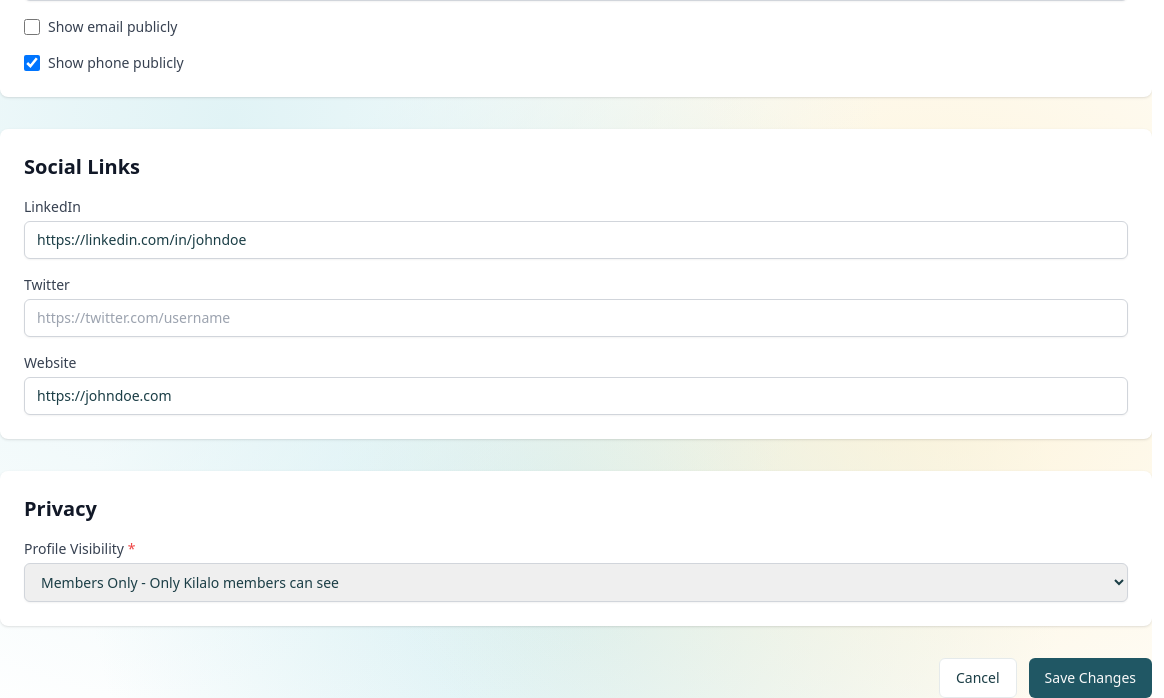
Test: ProfileForm › Form Submission › disables buttons while saving
(page scrolled)
Step 1. Click the button "Save Changes" → (1090, 678), box [1029, 658, 1152, 697]
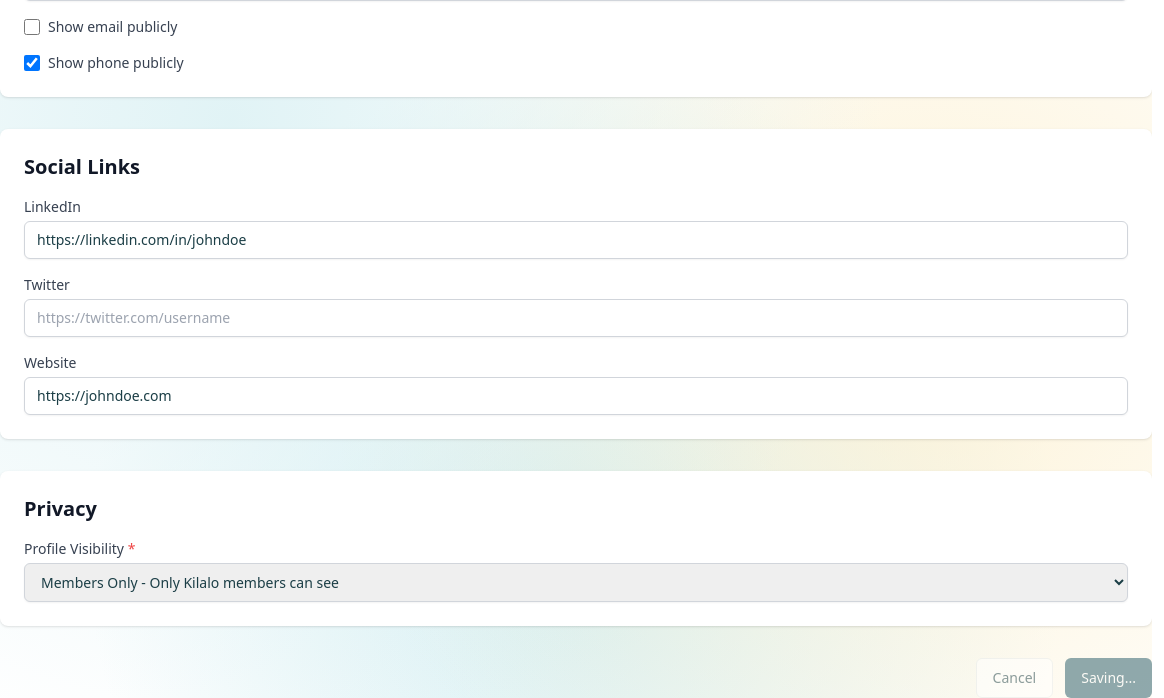
Now the button named "Save Changes" is disabled, box [1065, 658, 1152, 697]
Now the button "Cancel" is disabled, box [976, 658, 1053, 697]
